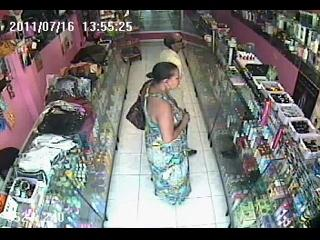Normal: (139, 62, 193, 207), (126, 80, 152, 130)
